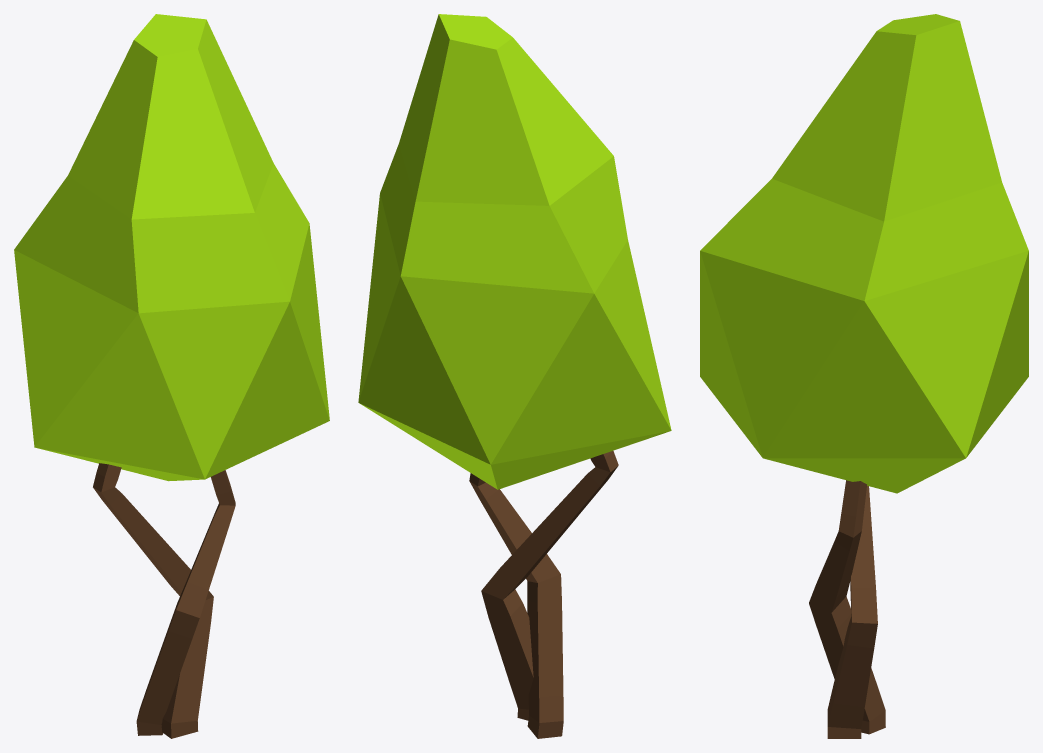
File: TreeSm.glb
3 renders of one model, left to right at view 1: azimuth 30°, elevation 25°; view 2: azimuth 150°, elevation 25°; view 3: azimuth 270°, elevation 25°, orthographic. The views are drawn at different scales.
Visible parts, largest first — view 1: Icosphere.031; view 2: Icosphere.031; view 3: Icosphere.031.
Part boxes in pixels (x1,y1,x2,y2): Icosphere.031: [14, 14, 329, 738]; Icosphere.031: [358, 14, 671, 738]; Icosphere.031: [700, 14, 1028, 738].
Bounding box in the file's own units: 0.9741 × 2.29 × 0.9264.
